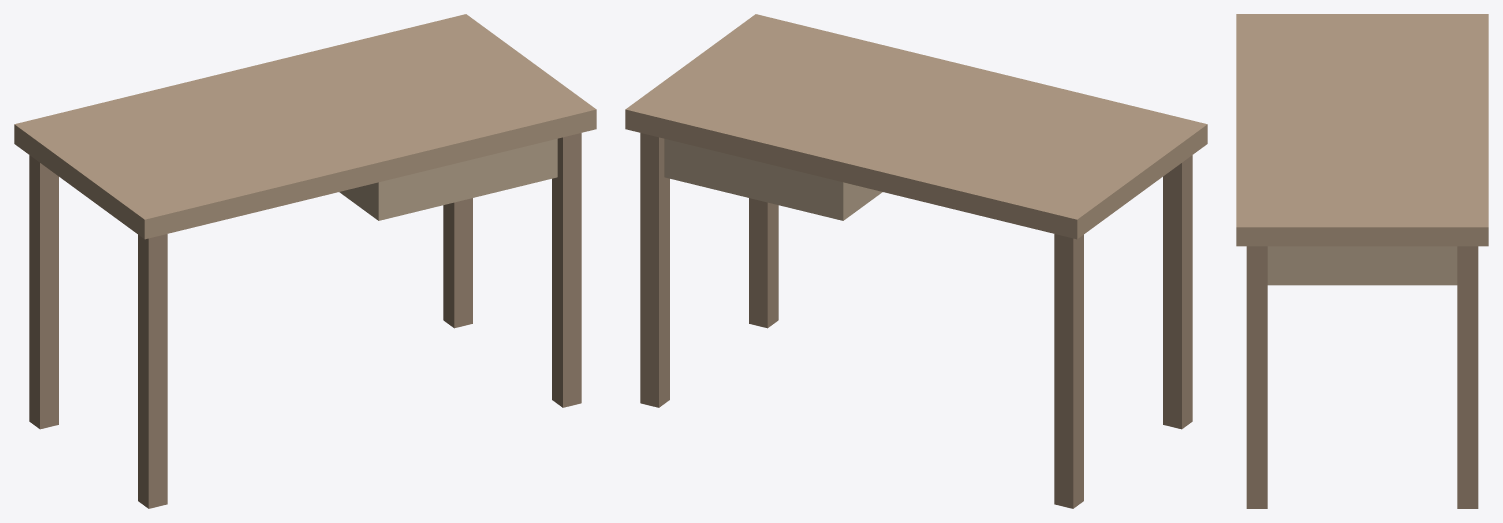
File: bed_moveis_escrivaninha.glb
3 renders of one model, left to right at view 1: azimuth 30°, elevation 25°; view 2: azimuth 150°, elevation 25°; view 3: azimuth 270°, elevation 25°, orthographic. The views are drawn at different scales.
Parts seen in each view (by area): view 1: BED_Moveis_Escrivaninha_v01; view 2: BED_Moveis_Escrivaninha_v01; view 3: BED_Moveis_Escrivaninha_v01.
Part boxes in pixels (x1,y1,x2,y2): BED_Moveis_Escrivaninha_v01: [14, 14, 596, 508]; BED_Moveis_Escrivaninha_v01: [625, 14, 1207, 508]; BED_Moveis_Escrivaninha_v01: [1236, 14, 1488, 508].
Bounding box in the file's own units: 1.2 × 0.75 × 0.6.
